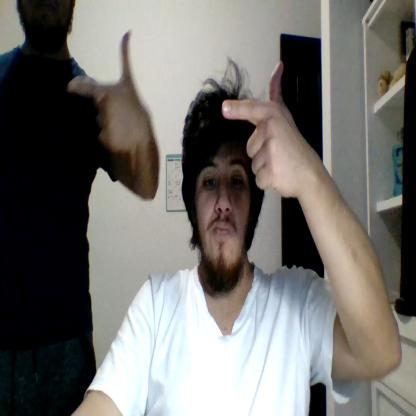G: (222, 60, 298, 197), (68, 30, 142, 151)
